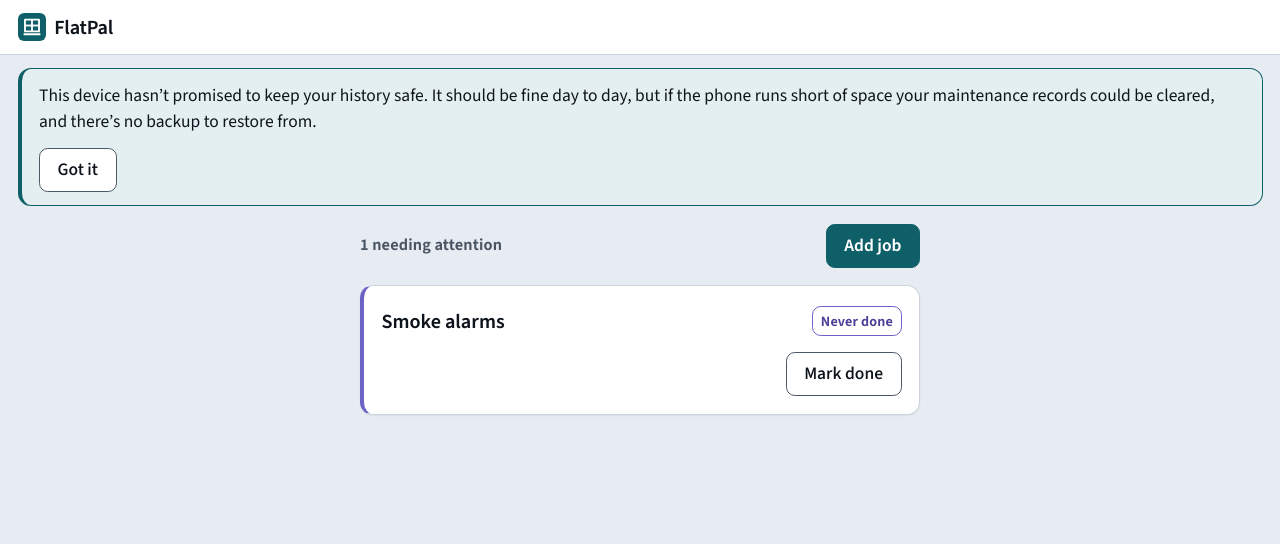
Test: maintenance, as the app ships today, with one area and no bar › records one completion when a job is marked done
The width and height of the screenshot is (1280, 544).
expect the button "Smoke alarms" is shown: met, box x1=382 y1=299 x2=505 y2=343
Click the button "Mark done" at {"x": 844, "y": 374}, box x1=786 y1=352 x2=902 y2=396
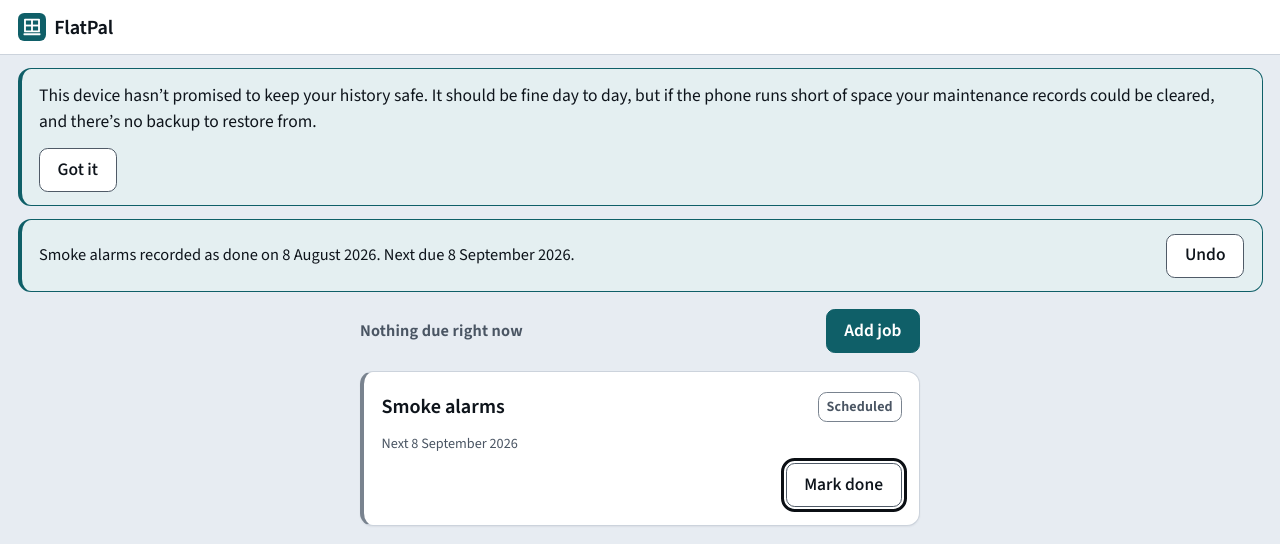
expect the heading "Nothing due right now" is shown: met, box x1=360 y1=319 x2=523 y2=343
